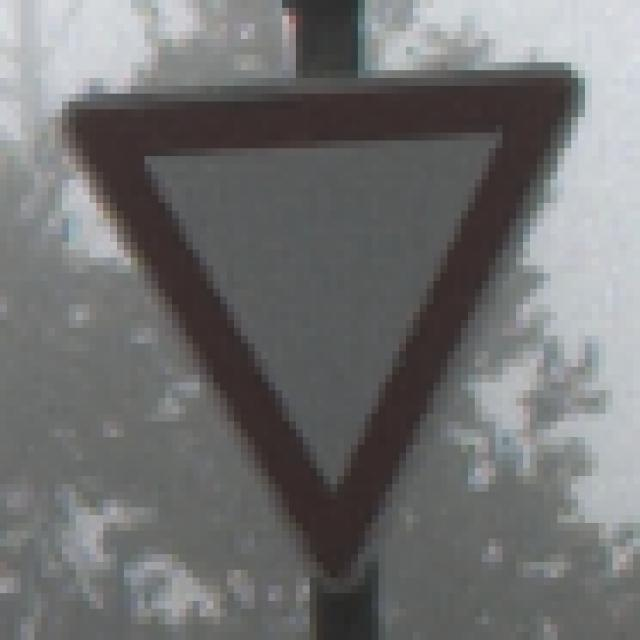Give Way: (63, 56, 586, 586)
